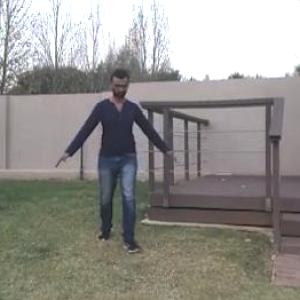land: (66, 59, 184, 267)
